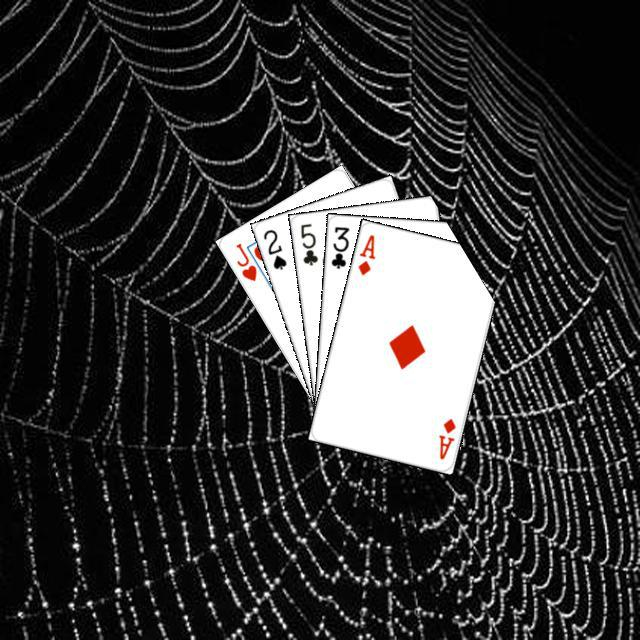2s: (258, 224, 288, 271)
3c: (326, 222, 351, 270)
5c: (296, 218, 320, 267)
Ad: (353, 229, 377, 277), (434, 414, 458, 461)
Jh: (231, 238, 258, 283)
